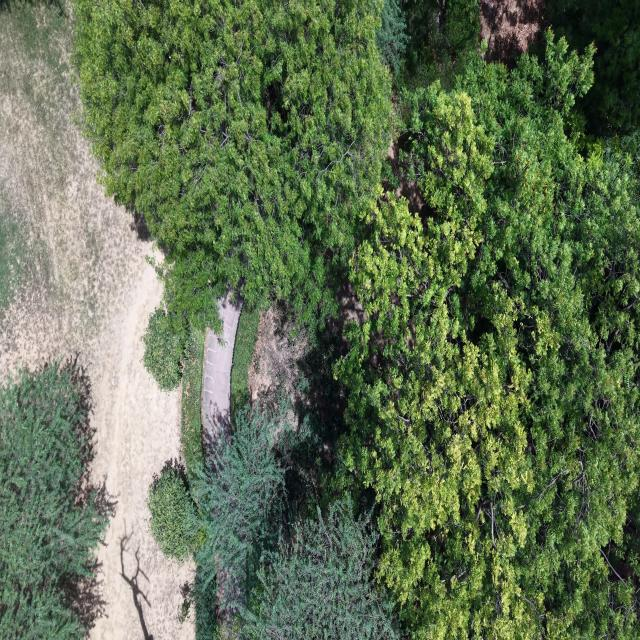DRY_AREA: (0, 8, 194, 639), (0, 8, 193, 639), (248, 281, 364, 428), (201, 292, 242, 460), (202, 294, 242, 454), (249, 306, 308, 404), (249, 307, 308, 403), (479, 0, 545, 67), (480, 0, 545, 65)
VEGETATION_TREE: (76, 0, 639, 639), (337, 33, 639, 638), (74, 0, 391, 334), (172, 403, 397, 639), (0, 362, 107, 639), (243, 500, 397, 639), (190, 405, 291, 609), (546, 0, 639, 136), (395, 0, 479, 89), (148, 460, 197, 561), (181, 327, 205, 482), (142, 308, 185, 390), (231, 308, 260, 420), (376, 0, 410, 72), (186, 569, 220, 639), (0, 216, 24, 315), (443, 0, 479, 62)
